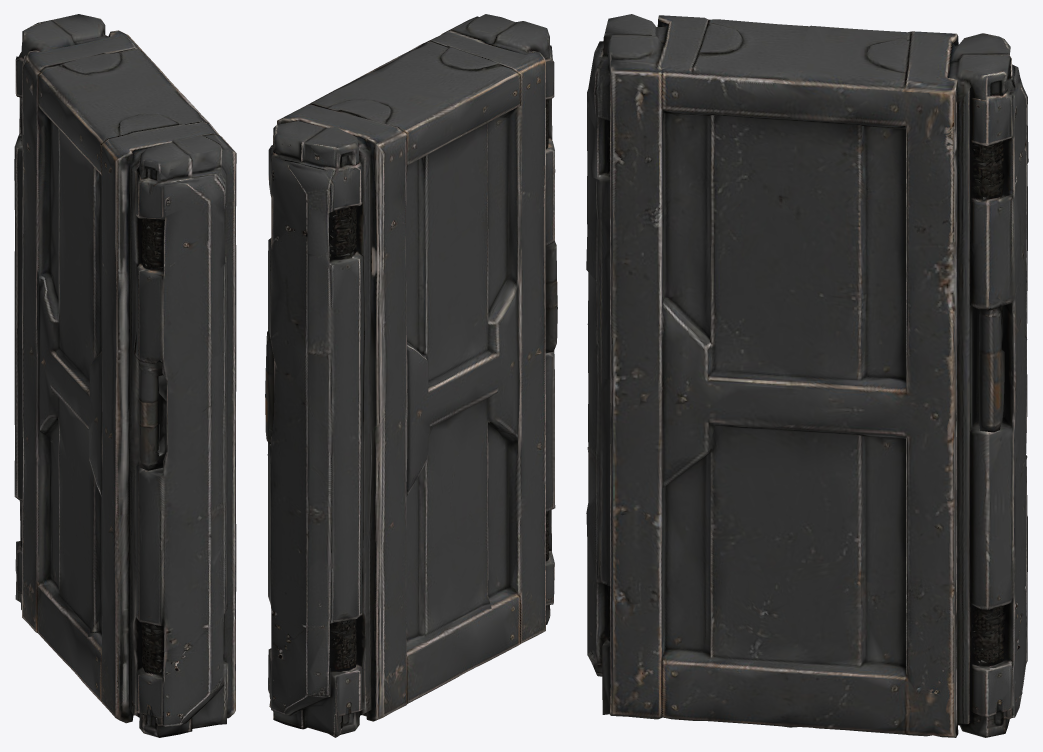
Rendered from PROP-DOOR-LEAF.glb.
3 renders of one model, left to right at view 1: azimuth 30°, elevation 25°; view 2: azimuth 150°, elevation 25°; view 3: azimuth 270°, elevation 25°, orthographic. The views are drawn at different scales.
Parts seen in each view (by area): view 1: tripo_node_ce8b2327-8995-44d0-9fe5-e3551e06009e; view 2: tripo_node_ce8b2327-8995-44d0-9fe5-e3551e06009e; view 3: tripo_node_ce8b2327-8995-44d0-9fe5-e3551e06009e.
Boxes of the visible parts, box(x1,y1,x2,y2) form: tripo_node_ce8b2327-8995-44d0-9fe5-e3551e06009e: box(14, 14, 236, 737); tripo_node_ce8b2327-8995-44d0-9fe5-e3551e06009e: box(265, 14, 557, 737); tripo_node_ce8b2327-8995-44d0-9fe5-e3551e06009e: box(586, 14, 1028, 737).
Size of the model in its own units: 0.2563 by 1 by 0.6048.
1 material, 1 textured.
